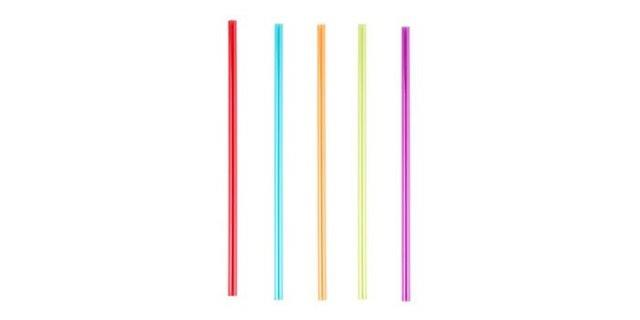sedotan: (401, 26, 412, 301), (317, 23, 327, 300), (228, 20, 238, 295), (275, 22, 284, 301), (359, 23, 367, 301)
